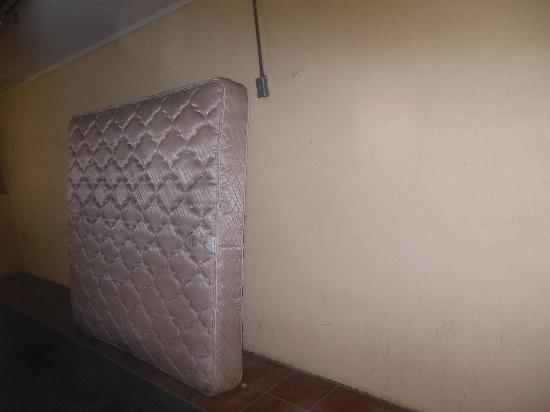Bed-Mattress: (46, 68, 272, 404)
